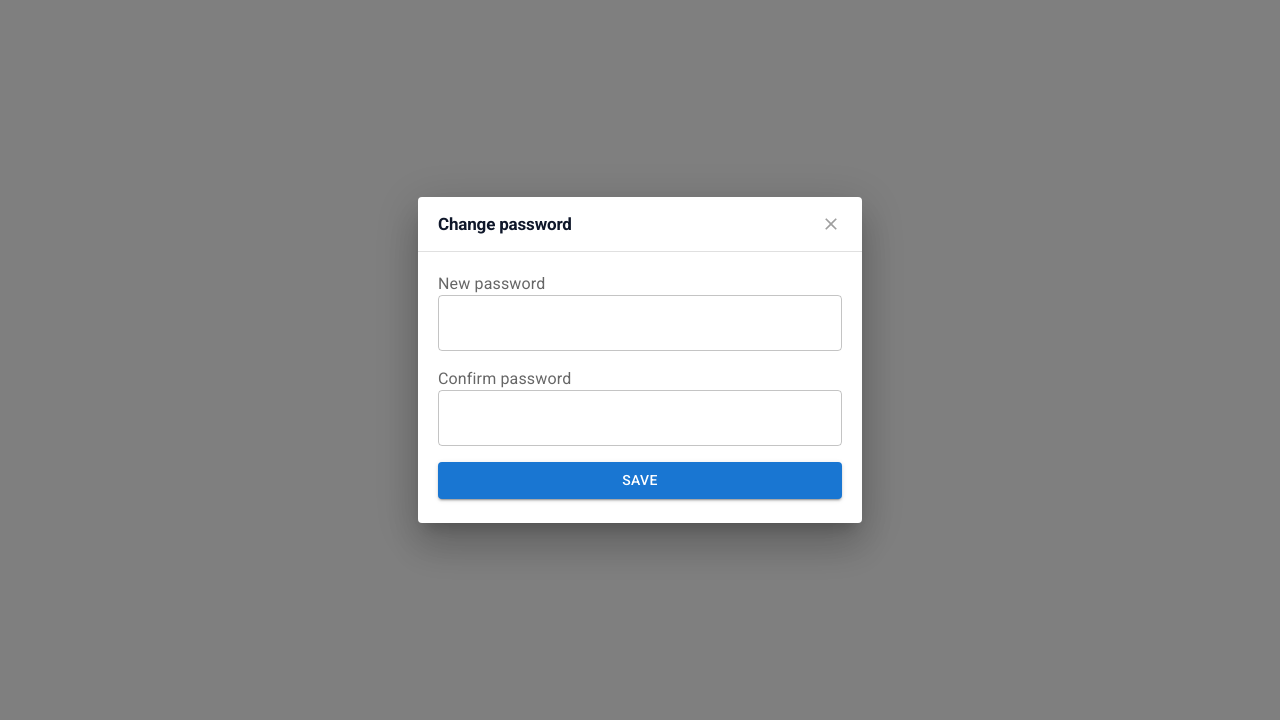
ChangePasswordDialog › shows mismatch error
In the password field labelled "New password": (640, 323) [438,295,842,351], type "secret-one"
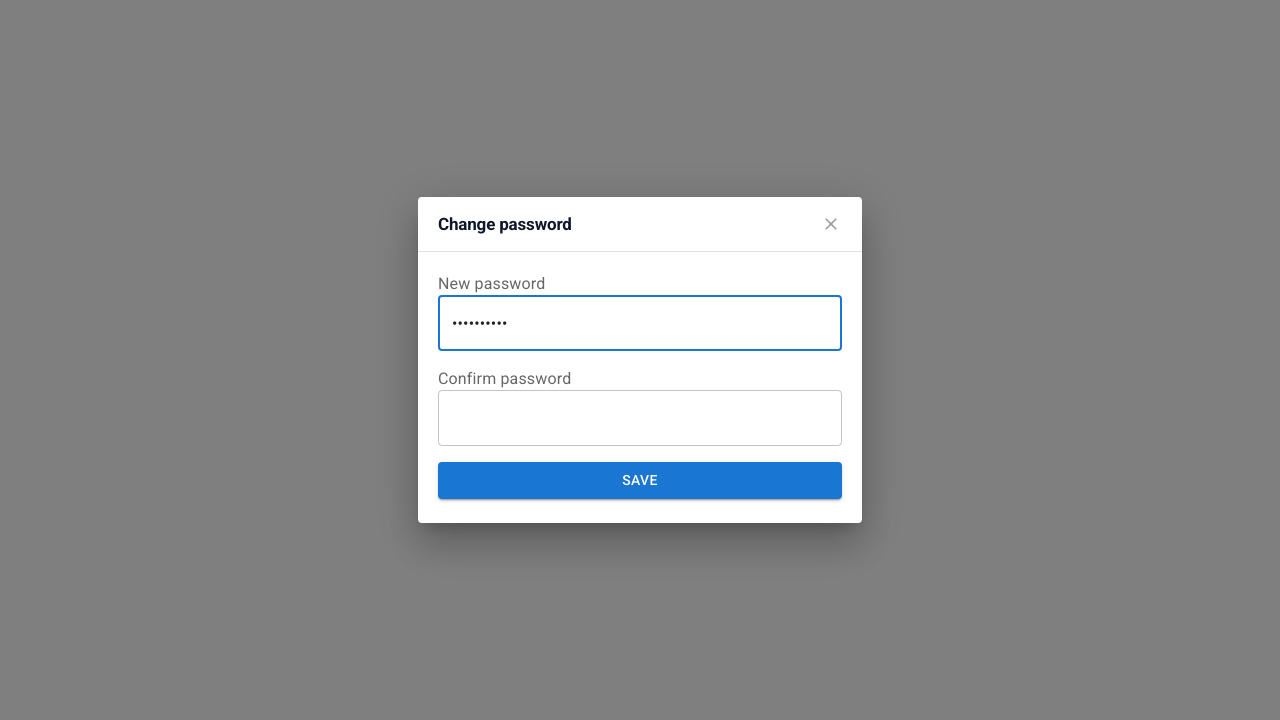
In the password field labelled "Confirm password": (640, 418) [438,390,842,446], type "secret-two"
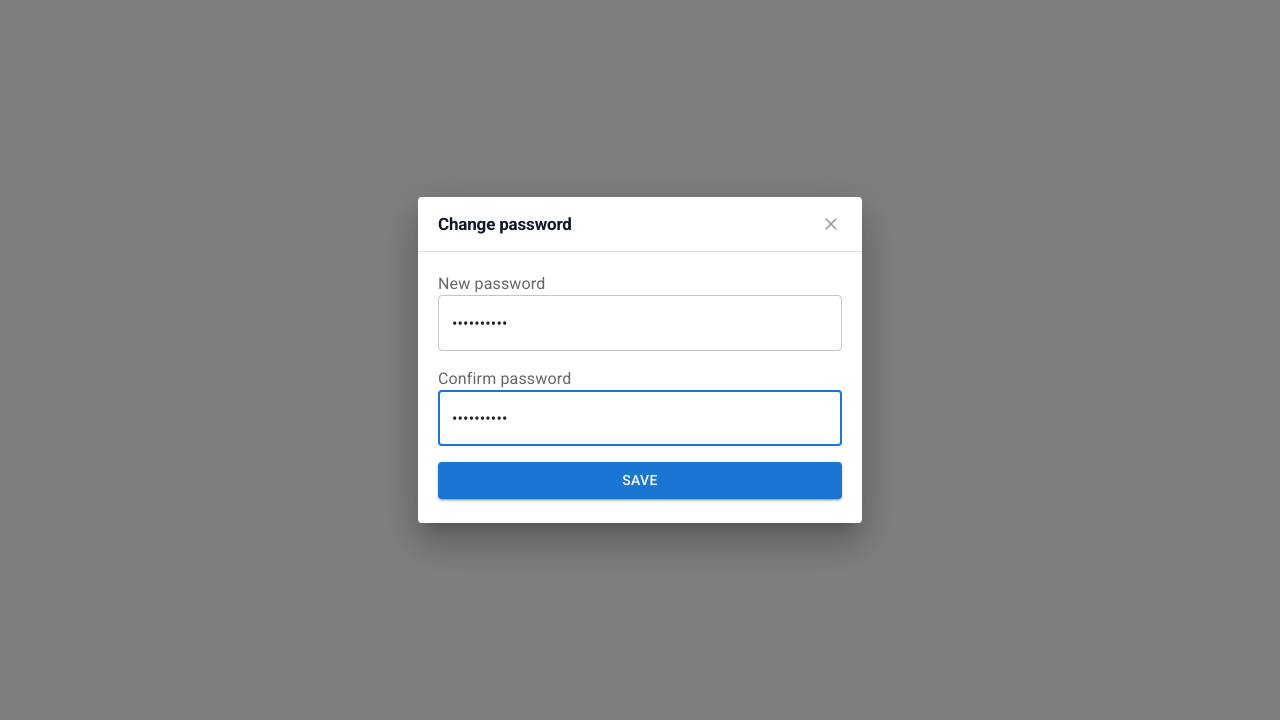
Click the button "Save": (640, 481) [438,462,842,499]
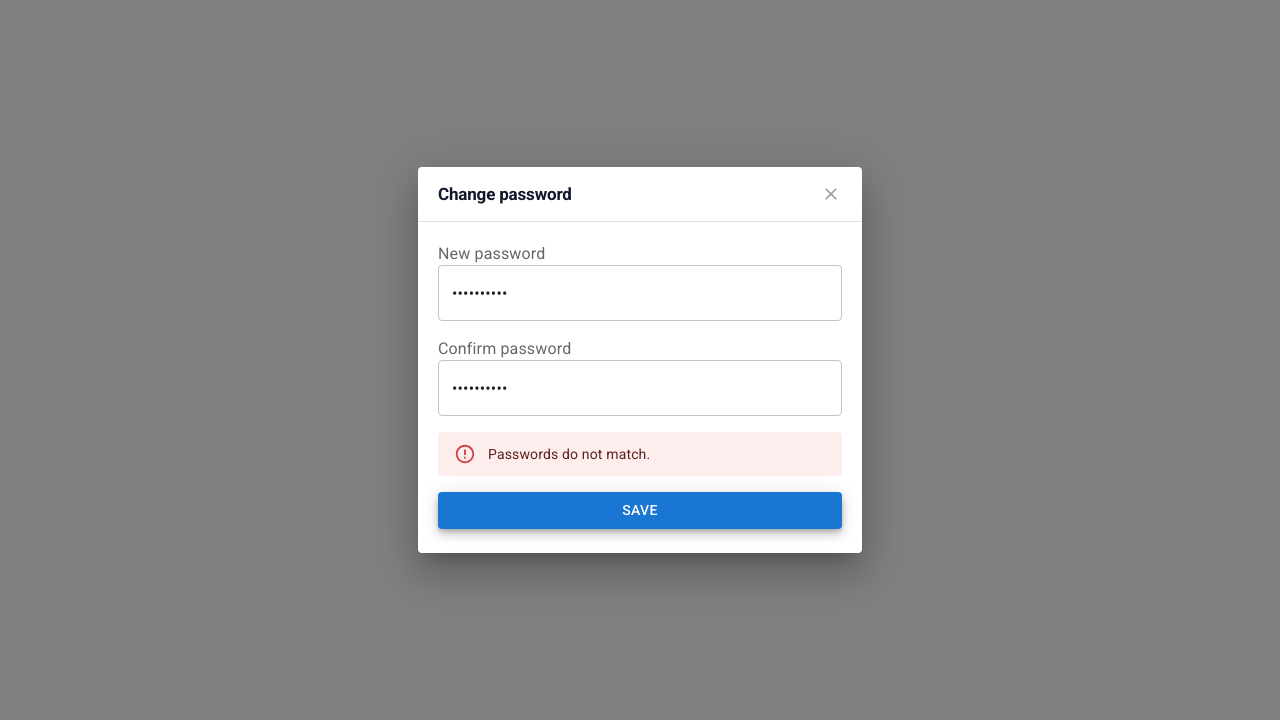
Now the text "Passwords do not match." is shown, box [488,446,650,462]
